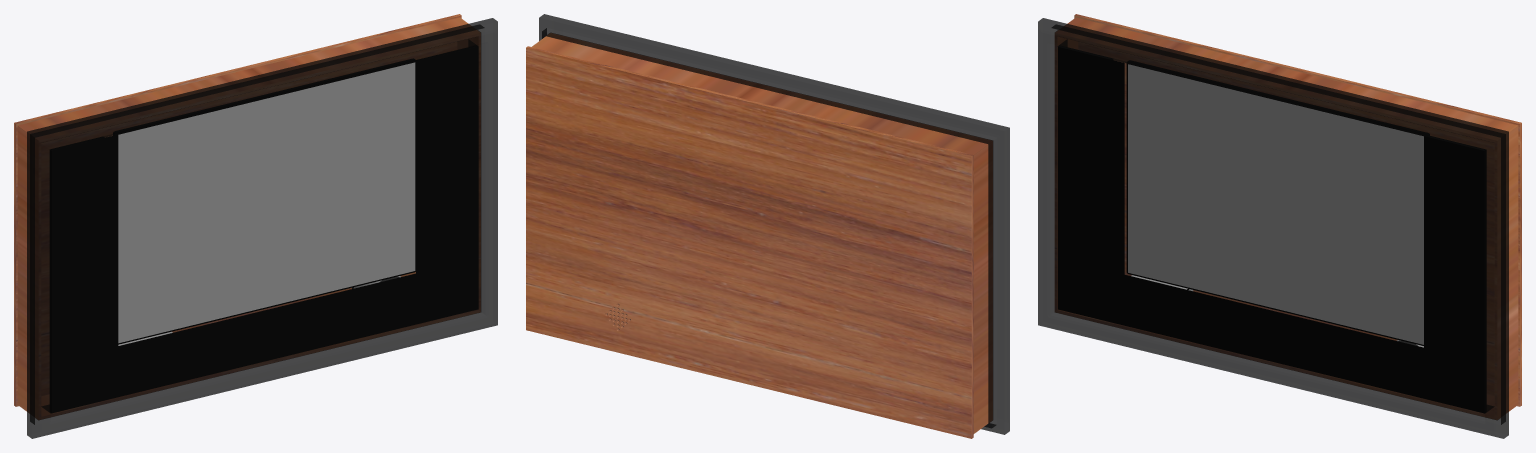
File: MagicMirrorglb.glb
The picture shows the model from 3 angles, left to right: view 1: azimuth 30°, elevation 25°; view 2: azimuth 150°, elevation 25°; view 3: azimuth 330°, elevation 25°; orthographic projection.
Parts seen in each view (by area): view 1: GLASS, MONITOR, FRAME, Case Belakang; view 2: Case Belakang, FRAME; view 3: GLASS, MONITOR, FRAME, Case Belakang.
Part boxes in pixels (x1,y1,x2,y2): GLASS: (50, 45, 478, 413); MONITOR: (113, 59, 415, 344); FRAME: (27, 18, 497, 438); Case Belakang: (14, 14, 480, 419); Case Belakang: (526, 33, 992, 438); FRAME: (539, 14, 1009, 434); GLASS: (1058, 46, 1486, 413); MONITOR: (1126, 60, 1429, 345); FRAME: (1038, 18, 1508, 438); Case Belakang: (1055, 14, 1521, 419).
Size of the model in its own units: 3.21 by 2 by 0.3819.
Materials: 12 (3 with a texture image).
